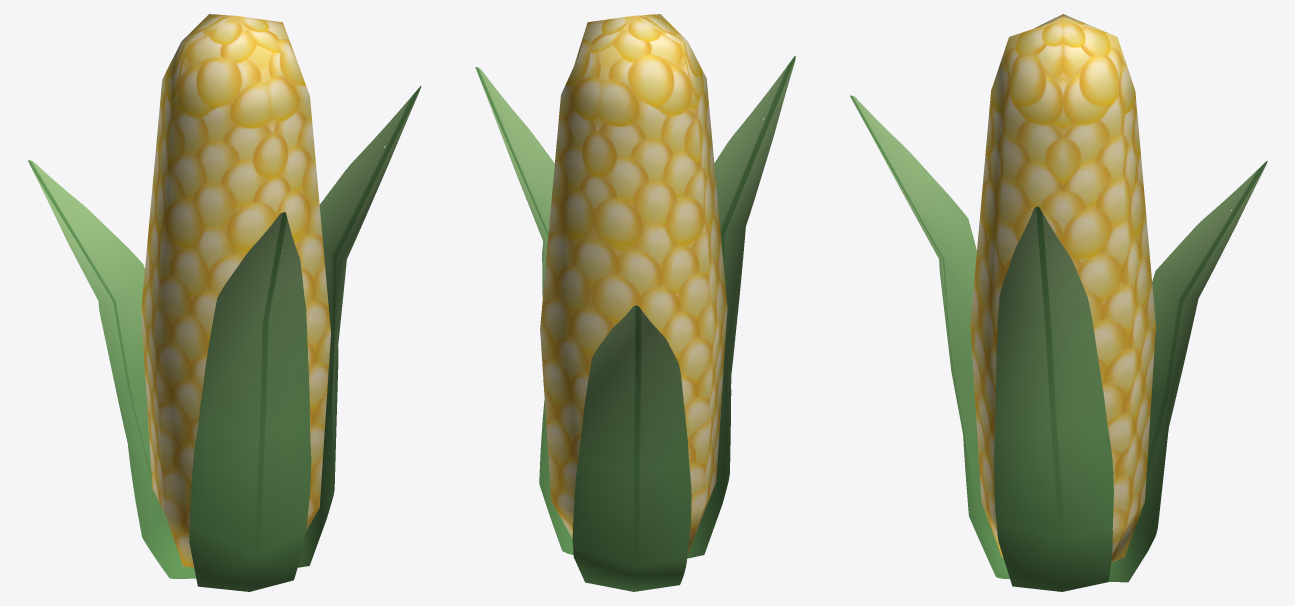
File: Mais.fbx
3 views of the same model, side by side, from view 1: azimuth 30°, elevation 25°; view 2: azimuth 150°, elevation 25°; view 3: azimuth 270°, elevation 25° (orthographic).
Parts seen in each view (by area): view 1: Mais; view 2: Mais; view 3: Mais.
Boxes of the visible parts, x1=… form: Mais: x1=28, y1=14, x2=421, y2=591; Mais: x1=475, y1=14, x2=795, y2=591; Mais: x1=850, y1=14, x2=1267, y2=591.
Size of the model in its own units: 1.39 by 2.5 by 1.8.
